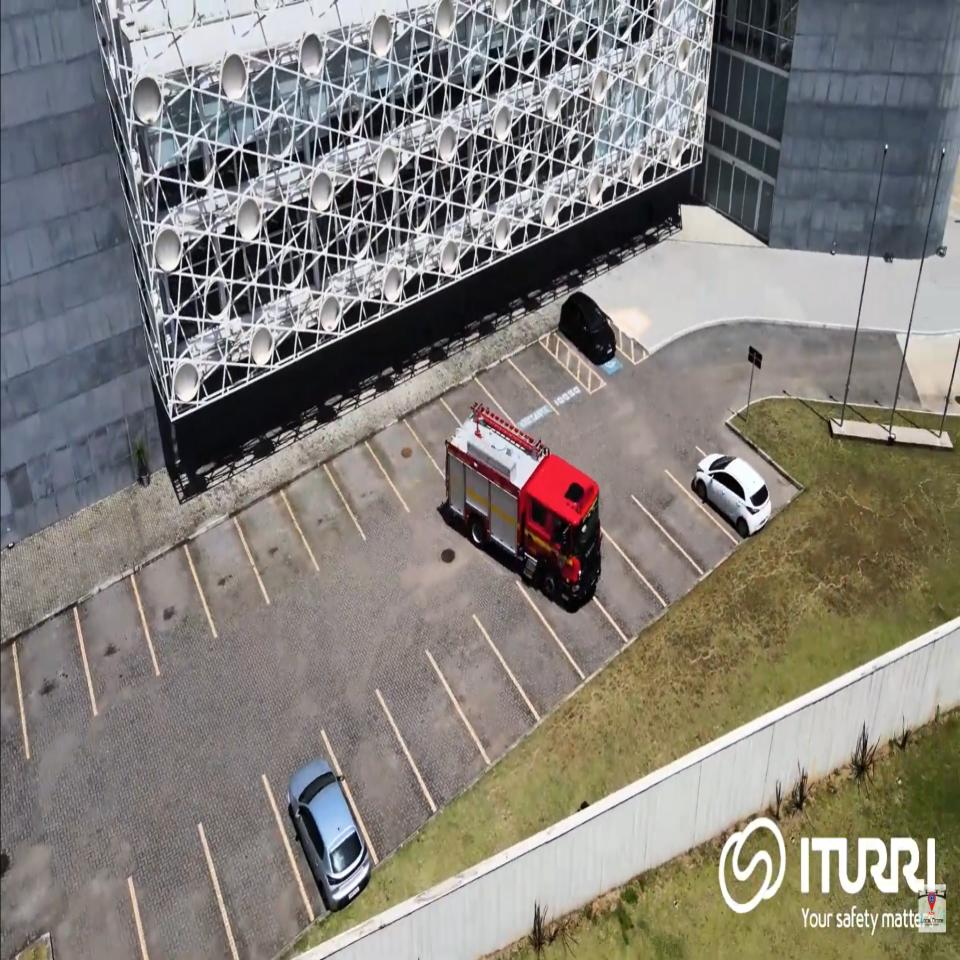viatura: (443, 400, 602, 606)
